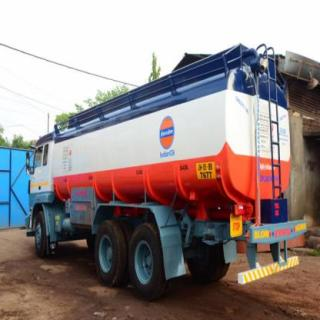Normal_vehicle: (27, 40, 306, 304)
